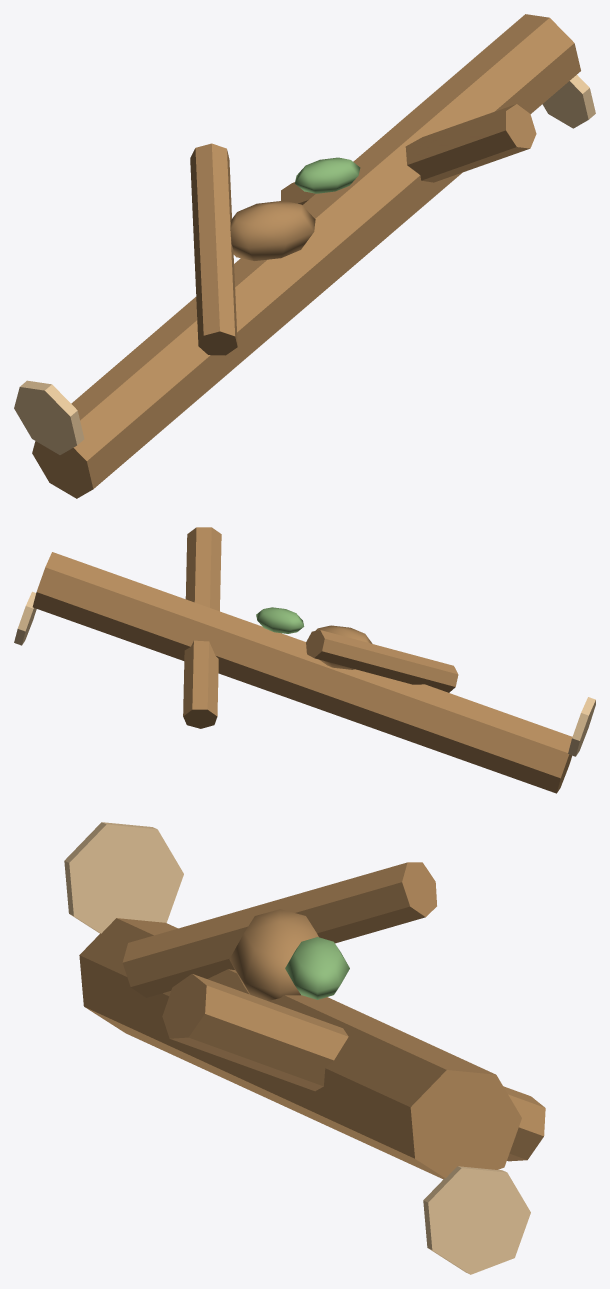
Rendered from fallen_stick.glb.
The picture shows the model from 3 angles, top to bottom: view 1: azimuth 30°, elevation 25°; view 2: azimuth 150°, elevation 25°; view 3: azimuth 270°, elevation 25°; orthographic projection. The views are drawn at different scales.
Visible parts, largest first — view 1: main_branch, fork_b, fork_a, knot, cut_end_a, moss_patch, cut_end_b; view 2: main_branch, fork_a, fork_b, moss_patch, cut_end_a, knot, cut_end_b; view 3: main_branch, fork_b, fork_a, cut_end_a, cut_end_b, knot, moss_patch.
Part boxes in pixels (x1,y1,x2,y2): main_branch: [32, 14, 580, 498]; fork_b: [190, 143, 237, 355]; fork_a: [281, 104, 536, 204]; knot: [230, 200, 315, 260]; cut_end_a: [14, 380, 84, 454]; moss_patch: [295, 157, 360, 193]; cut_end_b: [542, 75, 595, 128]; main_branch: [32, 552, 572, 793]; fork_a: [183, 527, 221, 728]; fork_b: [306, 630, 458, 692]; moss_patch: [256, 607, 304, 633]; cut_end_a: [568, 697, 595, 756]; knot: [315, 625, 372, 669]; cut_end_b: [14, 591, 36, 645]; main_branch: [79, 918, 521, 1179]; fork_b: [122, 862, 436, 997]; fork_a: [162, 974, 545, 1161]; cut_end_a: [64, 822, 183, 933]; cut_end_b: [423, 1166, 530, 1274]; knot: [229, 909, 318, 1000]; moss_patch: [285, 937, 349, 999].
Size of the model in its own units: 1.23 by 0.4557 by 0.518.
